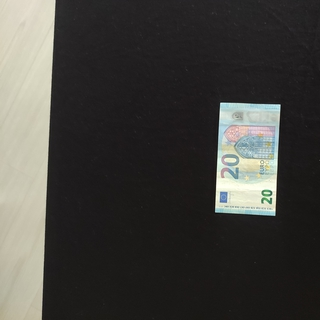20EUROFront: (214, 102, 281, 216)
